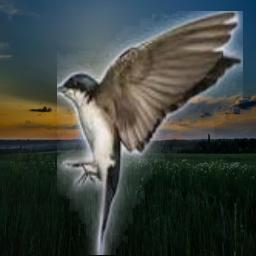Swallow: (57, 11, 243, 255)
